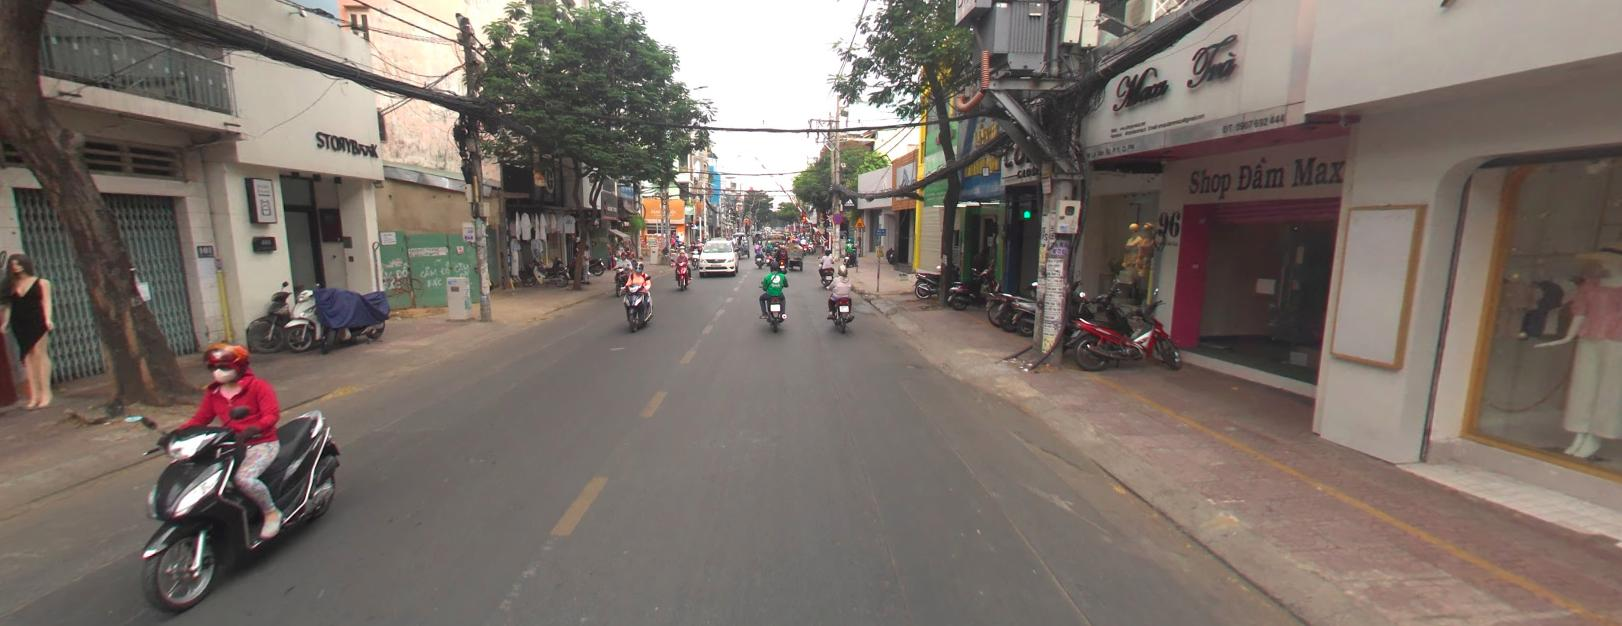Cam dung va do: (832, 212, 842, 222)
Nguy hiem: (854, 215, 865, 226)
